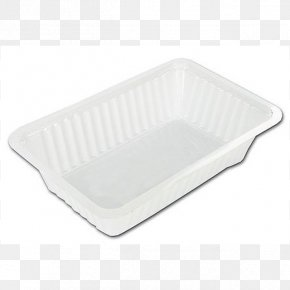Foam Box: (6, 55, 286, 239)
